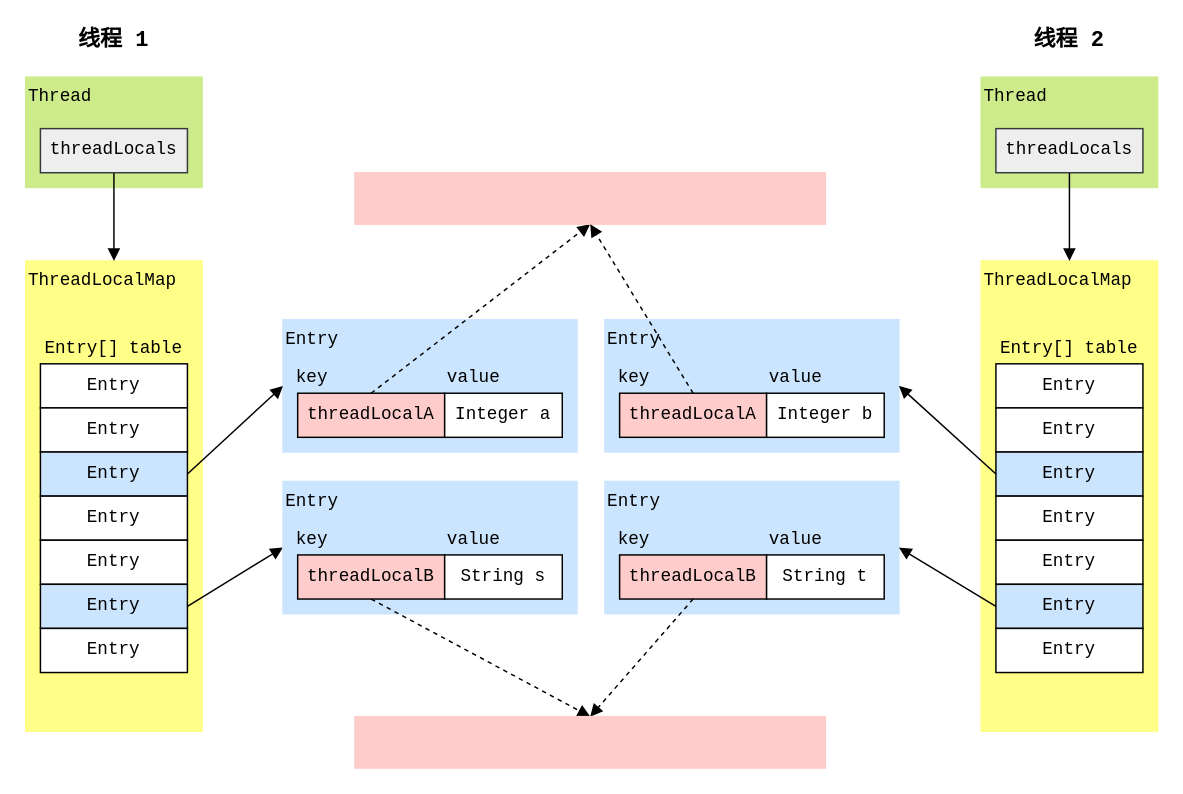
The diagram is 1183 pixels wide and 794 high, and some of its shapes have lost their labels. Each missing label, with the centre of its shape:
"ThreadLocal<Integer> threadLocalA" goes at pixel 589 197.
"ThreadLocal<String> threadLocalB" goes at pixel 589 741.
